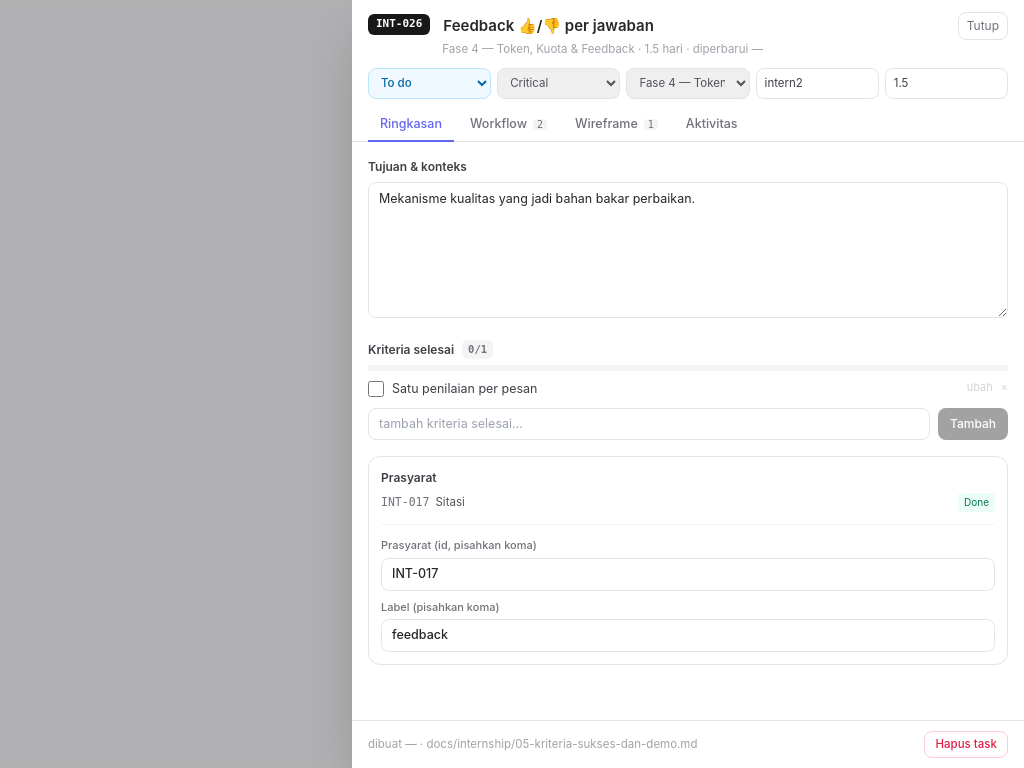
TaskDetail — tab detail task › menampilkan wireframe apa adanya dan daftar berkas bukti
Click the tab "Wireframe1": {"x": 616, "y": 125} [563,109,670,142]
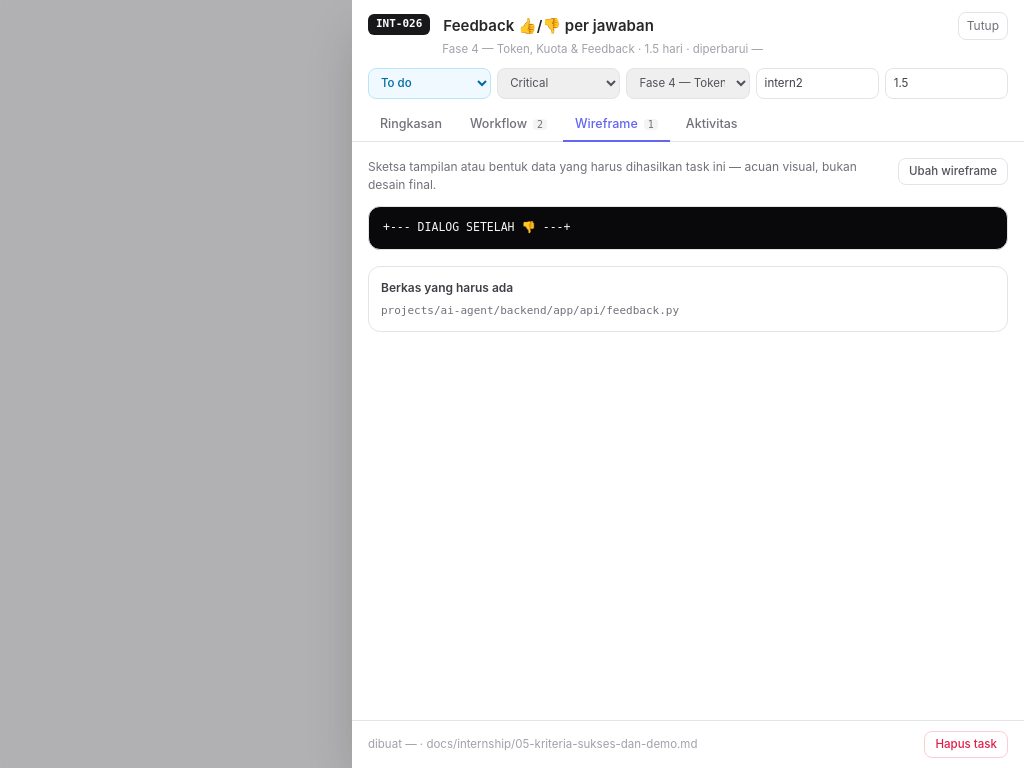
Check: the text with test id "task-wireframe" shows "DIALOG SETELAH", box [383,220,570,234]
Check: the list item "projects/ai-agent/backend/app/api/feedback.py" is shown, box [381,304,679,317]
